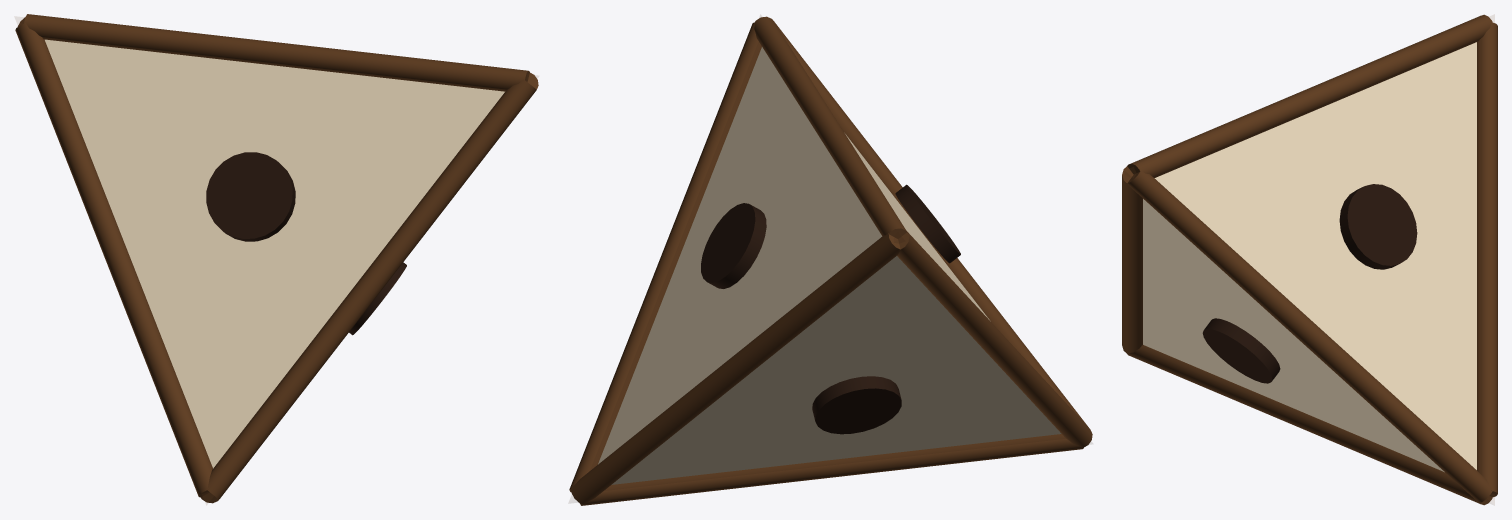
File: ur_tetra_die.glb
3 views of the same model, side by side, from view 1: azimuth 30°, elevation 25°; view 2: azimuth 150°, elevation 25°; view 3: azimuth 270°, elevation 25° (orthographic). The views are drawn at different scales.
Size of the model in its own units: 1.23 by 1.23 by 1.23.
